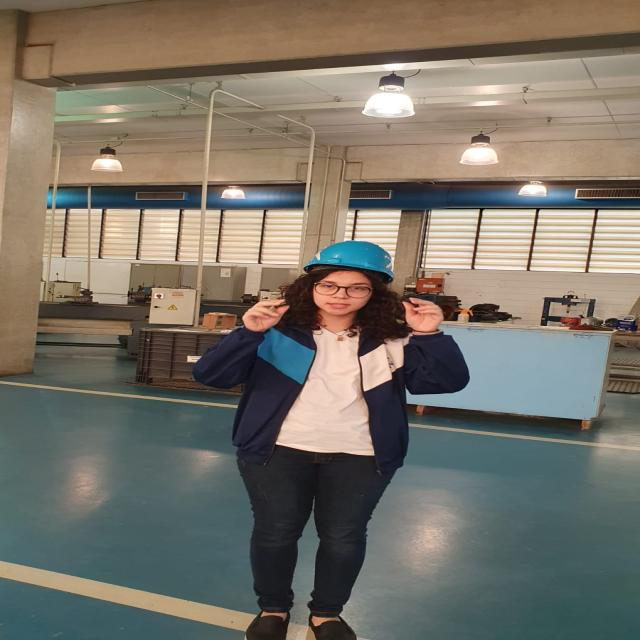sem_oculos: (302, 277, 389, 305)
